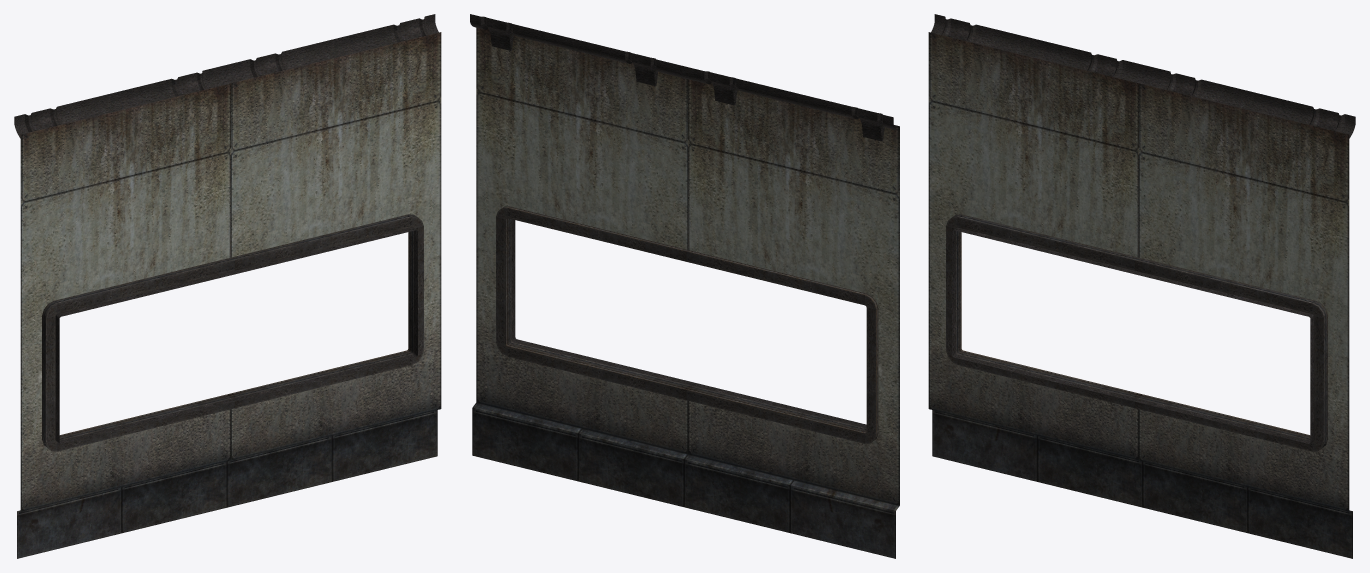
Rendered from lab_window_large_rusty_noglass.dae.
3 views of the same model, side by side, from view 1: azimuth 30°, elevation 25°; view 2: azimuth 150°, elevation 25°; view 3: azimuth 330°, elevation 25° (orthographic).
Visible parts, largest first — view 1: lab_window_large; view 2: lab_window_large; view 3: lab_window_large.
Boxes of the visible parts, x1,y1,x2,y2 form: lab_window_large: (14,14,441,558); lab_window_large: (470,14,899,558); lab_window_large: (928,14,1355,558).
Bounding box in the file's own units: 4 × 4 × 0.2276.
